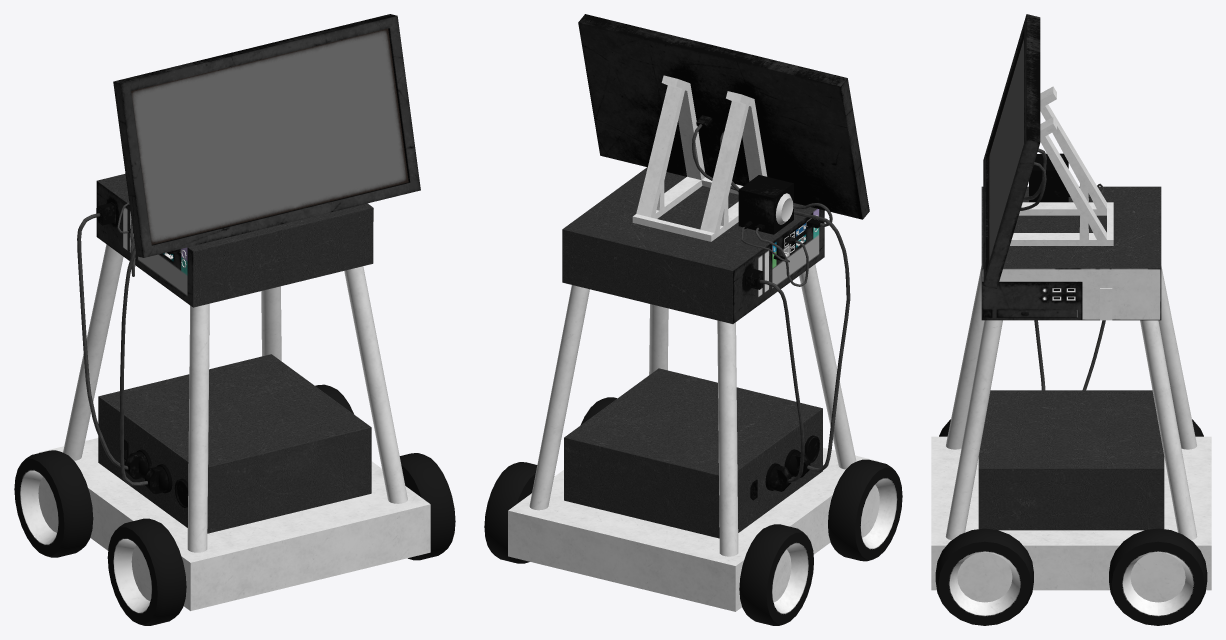
File: ceres.glb
3 renders of one model, left to right at view 1: azimuth 30°, elevation 25°; view 2: azimuth 150°, elevation 25°; view 3: azimuth 270°, elevation 25°, orthographic. The views are drawn at different scales.
Parts seen in each view (by area): view 1: PLUTO; view 2: PLUTO; view 3: PLUTO.
Part boxes in pixels (left/top/right/bottom): PLUTO: left=14, top=14, right=455, bottom=625; PLUTO: left=484, top=14, right=902, bottom=625; PLUTO: left=931, top=14, right=1211, bottom=625.
Bounding box in the file's own units: 0.516 × 0.8634 × 0.4536.
1 material, 1 textured.
